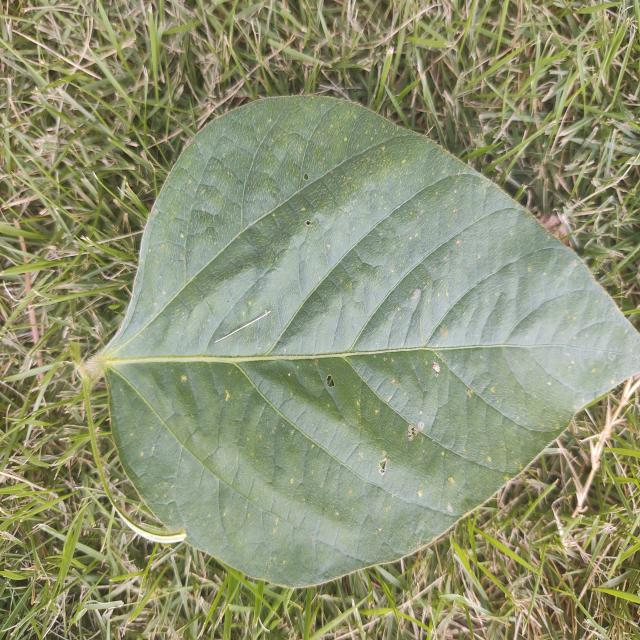Soybean: (78, 94, 640, 590)
downey_mildew: (192, 103, 333, 248), (219, 365, 366, 491), (411, 190, 545, 323), (263, 239, 383, 350), (488, 284, 640, 370), (124, 358, 226, 471), (435, 338, 562, 418), (342, 342, 440, 438), (356, 483, 437, 573), (438, 441, 534, 516), (397, 174, 488, 251), (251, 359, 333, 426), (231, 387, 284, 483), (264, 240, 324, 314)
